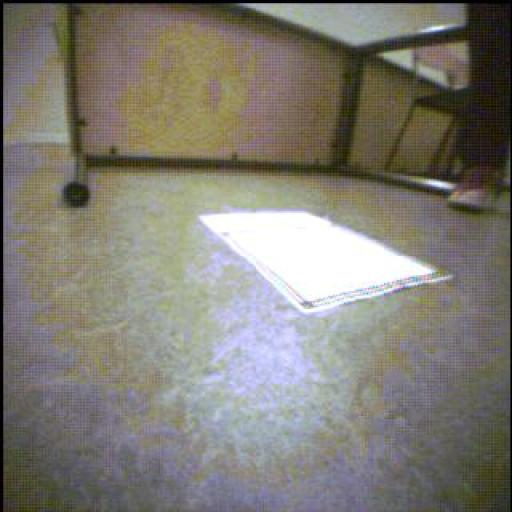Pad: (201, 212, 452, 315)
